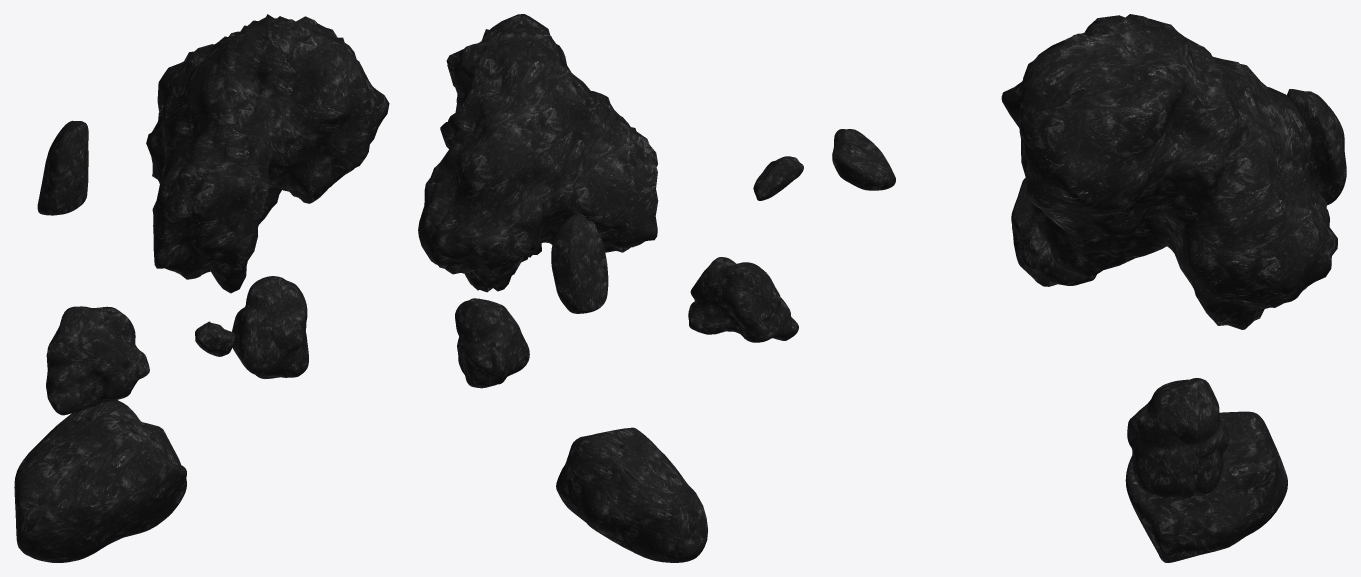
File: rocks.glb
The picture shows the model from 3 angles, left to right: view 1: azimuth 30°, elevation 25°; view 2: azimuth 150°, elevation 25°; view 3: azimuth 270°, elevation 25°; orthographic projection. The views are drawn at different scales.
Visible parts, largest first — view 1: rock_2, rock_6, rock_7, rock_4, rock_5, rock_8; view 2: rock_2, rock_6, rock_7, rock_4, rock_5, rock_8; view 3: rock_2, rock_6, rock_4, rock_5, rock_7, rock_8.
Boxes of the visible parts, bbox=[...] form: rock_2: bbox=[146, 14, 389, 293]; rock_6: bbox=[14, 400, 186, 562]; rock_7: bbox=[46, 306, 149, 415]; rock_4: bbox=[232, 276, 308, 378]; rock_5: bbox=[37, 120, 88, 215]; rock_8: bbox=[195, 321, 235, 356]; rock_2: bbox=[418, 14, 658, 292]; rock_6: bbox=[556, 427, 707, 562]; rock_7: bbox=[688, 257, 798, 342]; rock_4: bbox=[455, 298, 529, 388]; rock_5: bbox=[551, 212, 608, 313]; rock_8: bbox=[753, 156, 803, 200]; rock_2: bbox=[1001, 14, 1337, 329]; rock_6: bbox=[1125, 411, 1287, 562]; rock_4: bbox=[1127, 378, 1230, 498]; rock_5: bbox=[1287, 89, 1346, 205]; rock_7: bbox=[1011, 178, 1096, 286]; rock_8: bbox=[832, 129, 895, 190].
Bounding box in the file's own units: 37.61 × 52.38 × 38.49.
1 material, 1 textured.
